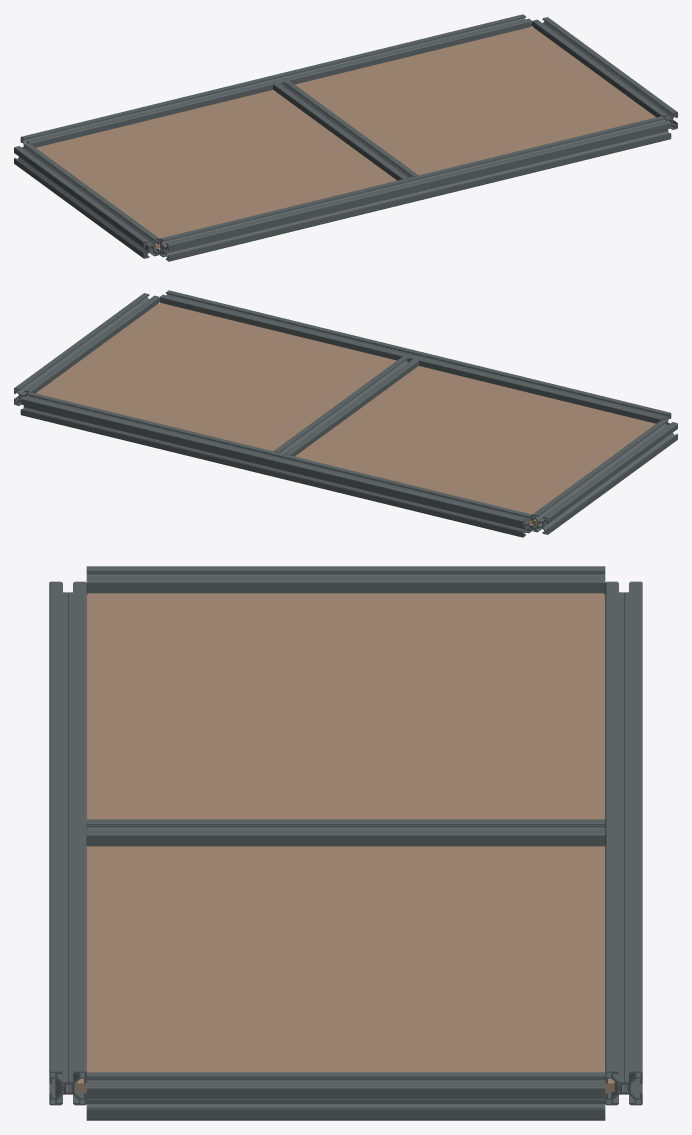
Rendered from floor-in-slots.glb.
3 views of the same model, one above another, from view 1: azimuth 30°, elevation 25°; view 2: azimuth 150°, elevation 25°; view 3: azimuth 270°, elevation 25° (orthographic). The views are drawn at different scales.
Parts seen in each view (by area): view 1: Floor-Left-8, Floor-Right-8, Beam-body-front, Beam-body-rear, Beam-body-side-4, Beam-body-side-966, Beam-body-center; view 2: Floor-Left-8, Floor-Right-8, Beam-body-rear, Beam-body-front, Beam-body-side-4, Beam-body-side-966, Beam-body-center; view 3: Floor-Right-8, Floor-Left-8, Beam-body-side-966, Beam-body-rear, Beam-body-front, Beam-body-side-4, Beam-body-center.
Part boxes in pixels (<box>): Floor-Left-8: <box>36,90,396,249</box>; Floor-Right-8: <box>295,27,665,175</box>; Beam-body-front: <box>160,116,671,261</box>; Beam-body-rear: <box>20,14,531,149</box>; Beam-body-side-4: <box>14,143,159,258</box>; Beam-body-side-966: <box>532,17,677,129</box>; Beam-body-center: <box>273,80,418,180</box>; Floor-Left-8: <box>295,366,655,525</box>; Floor-Right-8: <box>26,303,396,451</box>; Beam-body-rear: <box>20,392,531,537</box>; Beam-body-front: <box>160,290,671,425</box>; Beam-body-side-4: <box>532,419,677,534</box>; Beam-body-side-966: <box>14,293,159,405</box>; Beam-body-center: <box>273,356,418,456</box>; Floor-Right-8: <box>77,846,614,1092</box>; Floor-Left-8: <box>86,593,605,819</box>; Beam-body-side-966: <box>86,1072,605,1120</box>; Beam-body-rear: <box>605,581,642,1105</box>; Beam-body-front: <box>49,581,86,1105</box>; Beam-body-side-4: <box>86,566,605,594</box>; Beam-body-center: <box>86,819,605,846</box>.
Size of the model in its own units: 0.992 by 0.03 by 0.477.
